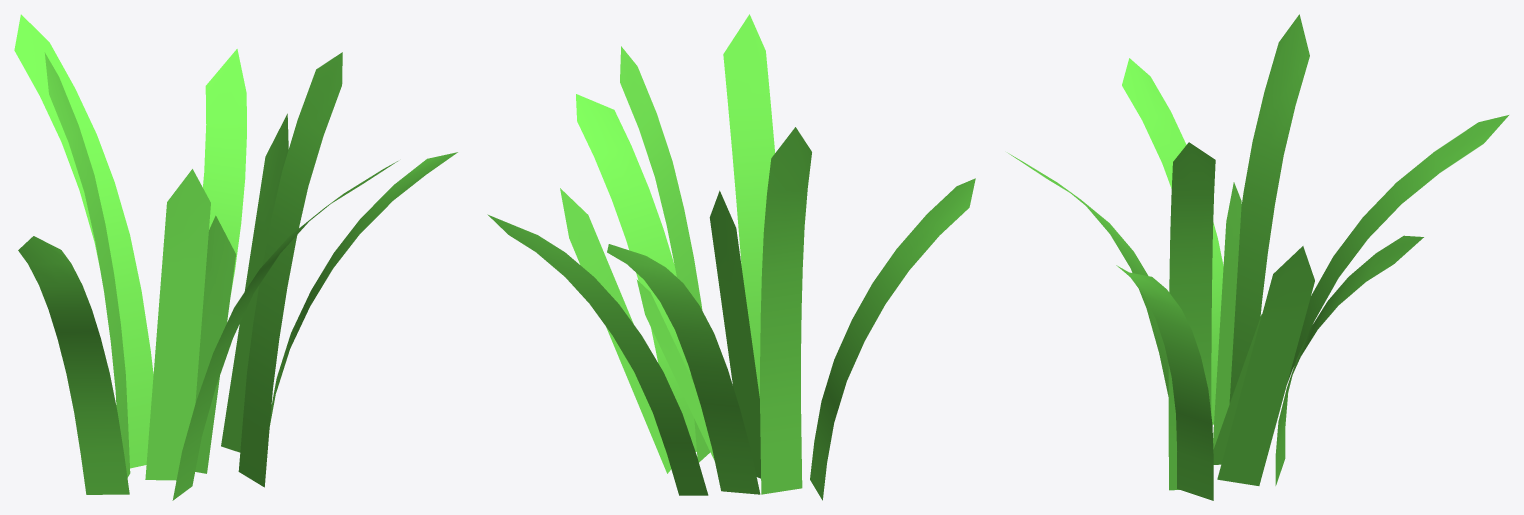
File: grass.fbx
3 renders of one model, left to right at view 1: azimuth 30°, elevation 25°; view 2: azimuth 150°, elevation 25°; view 3: azimuth 270°, elevation 25°, orthographic. The views are drawn at different scales.
Parts seen in each view (by area): view 1: grass; view 2: grass; view 3: grass.
Boxes of the visible parts, bbox=[...] form: grass: bbox=[14, 14, 457, 500]; grass: bbox=[487, 14, 975, 500]; grass: bbox=[1007, 14, 1508, 500].
Size of the model in its own units: 1541 by 1478 by 1650.
